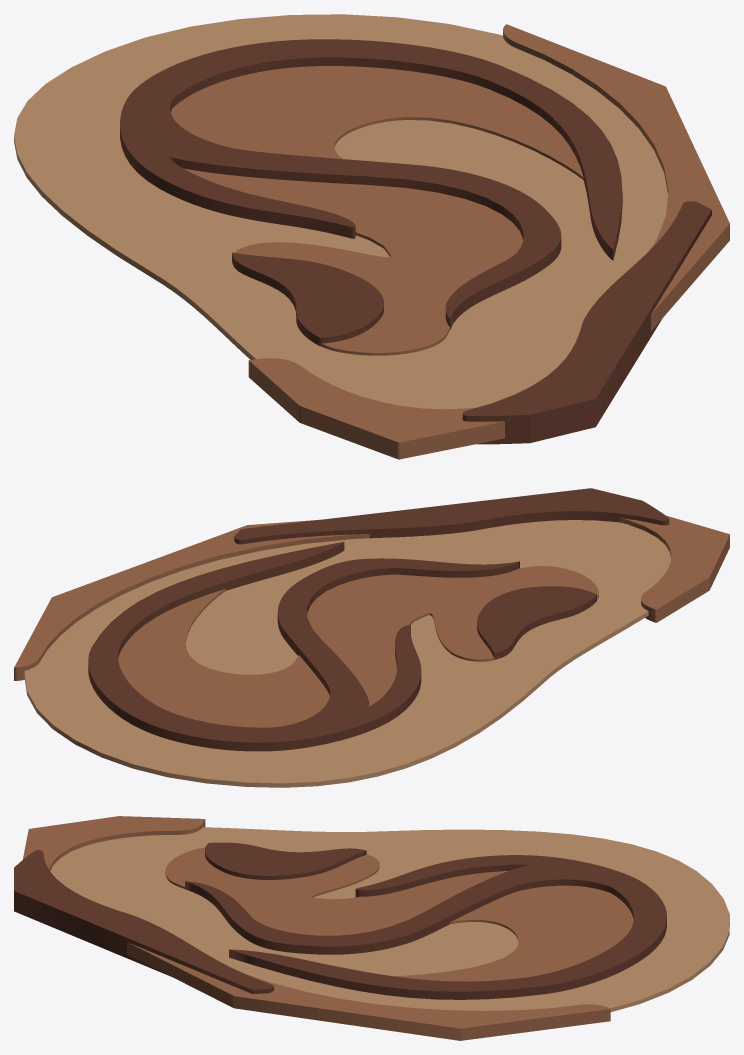
File: emoji_u1f442_1f3fd.glb
The picture shows the model from 3 angles, top to bottom: view 1: azimuth 30°, elevation 25°; view 2: azimuth 150°, elevation 25°; view 3: azimuth 270°, elevation 25°; orthographic projection. The views are drawn at different scales.
Visible parts, largest first — view 1: emoji_u1f442_1f3fd; view 2: emoji_u1f442_1f3fd; view 3: emoji_u1f442_1f3fd.
Part boxes in pixels (x1,y1,x2,y2): emoji_u1f442_1f3fd: (14, 14, 729, 459); emoji_u1f442_1f3fd: (14, 488, 729, 787); emoji_u1f442_1f3fd: (14, 816, 729, 1040).
Bounding box in the file's own units: 0.0222 × 0.001 × 0.0316.
